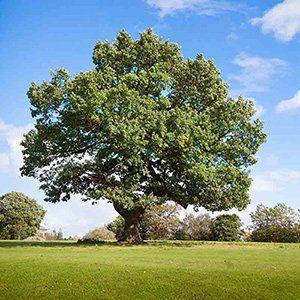Tree: (18, 26, 268, 243)
